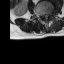CCS_normal: (45, 12, 47, 22)
LFS_severe_stenosis: (49, 11, 51, 17)
LLS_severe_stenosis: (47, 12, 49, 19)
RFS_severe_stenosis: (41, 12, 43, 18)
RLS_severe_stenosis: (43, 12, 45, 19)
